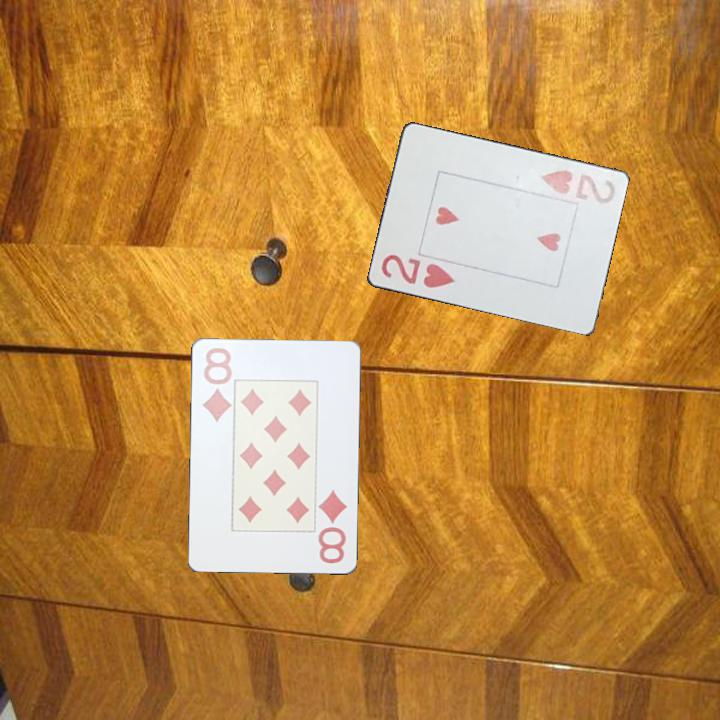2h: (536, 166, 619, 207), (377, 251, 458, 291)
8d: (314, 486, 350, 566), (198, 344, 233, 425)
